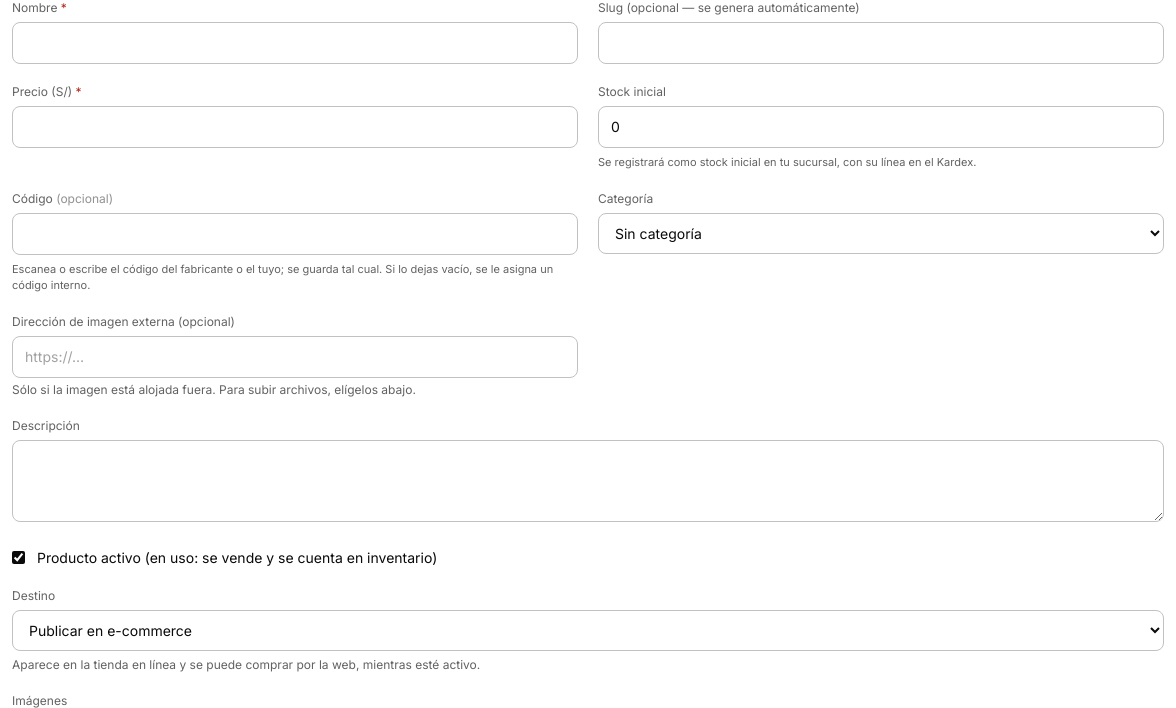
it: alta simple con un código parecido a otro › enseña el aviso del servidor y no se va del formulario sin que se lea
Type "Funda" into the field labelled "Nombre *" at (295, 43), box [12,22,578,64]
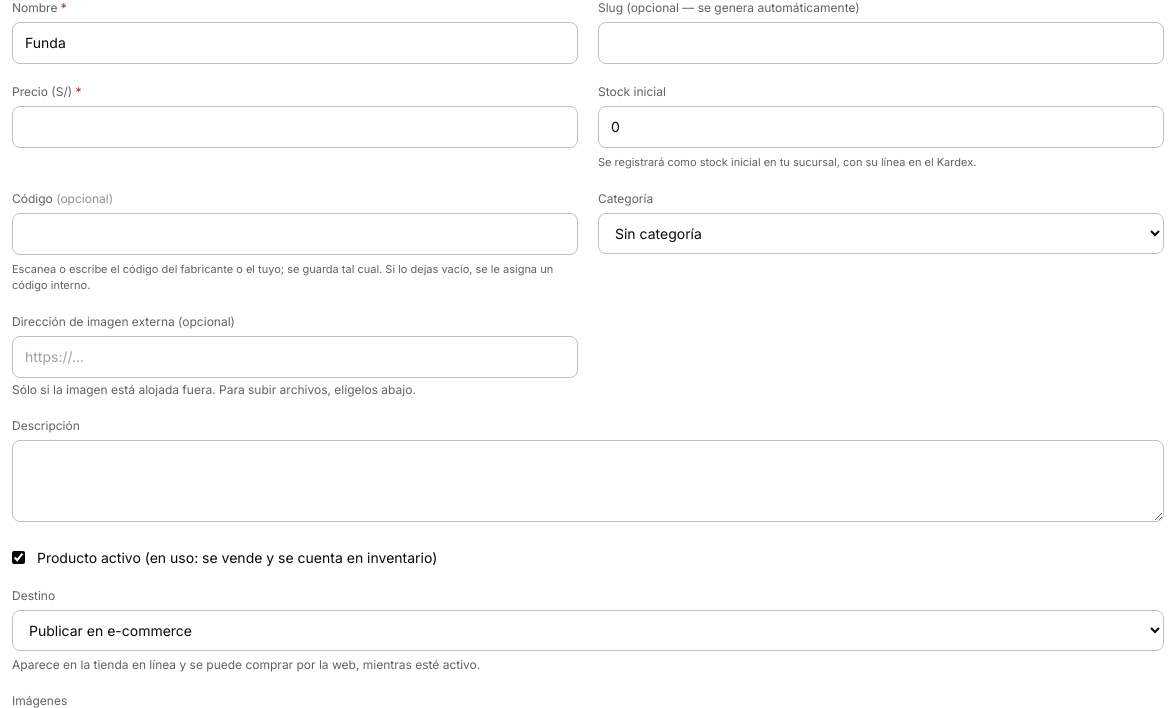
Type "10" into the number field labelled "Precio (S/) *" at (295, 127), box [12,106,578,148]
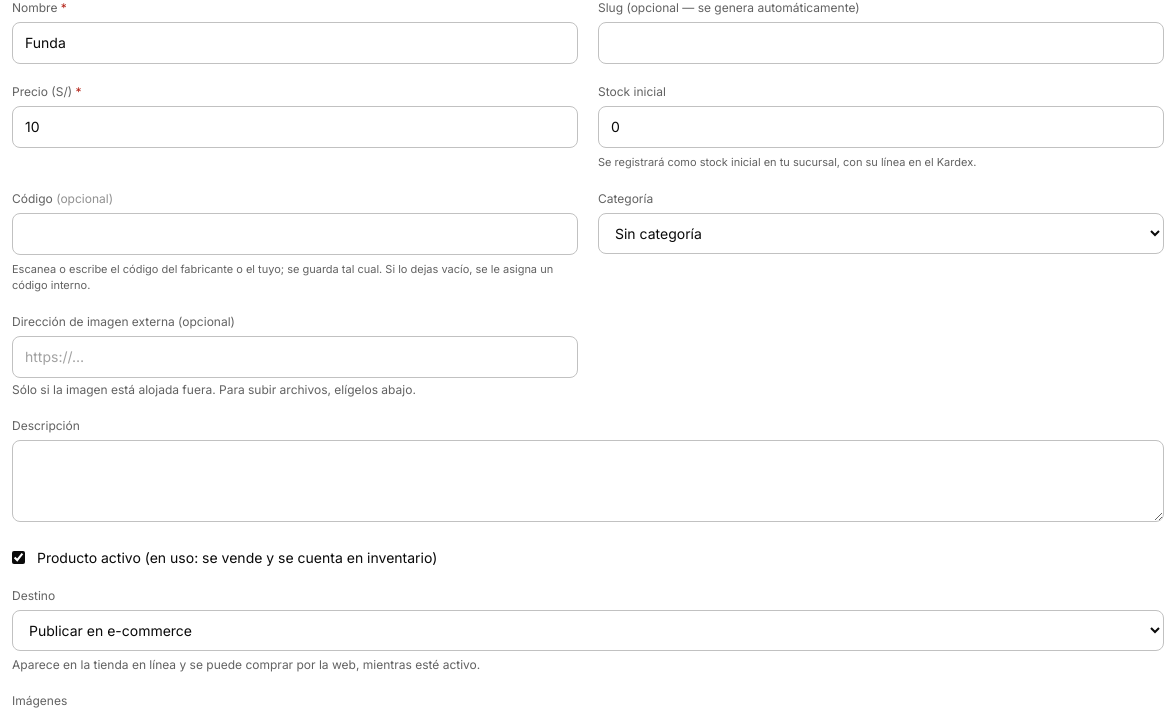
Type "abc123" into the field labelled "Código (opcional)" at (295, 234), box [12,212,578,254]
(page scrolled)
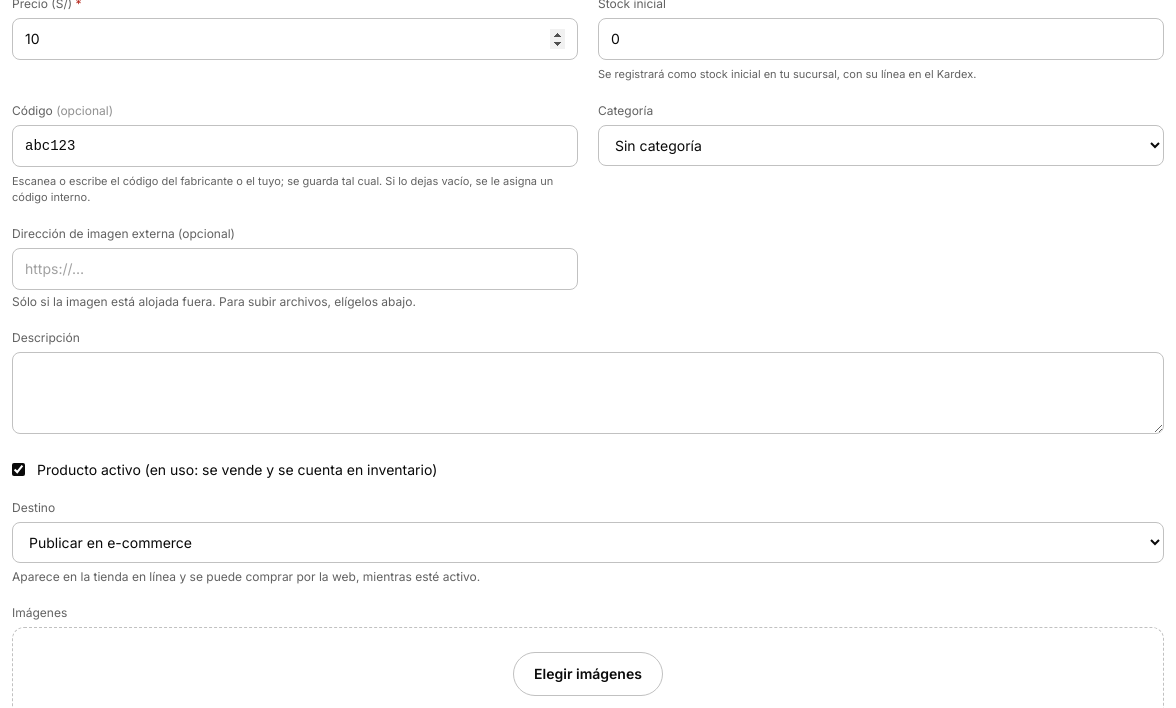
Submit the form labelled "Nombre"
(page scrolled)
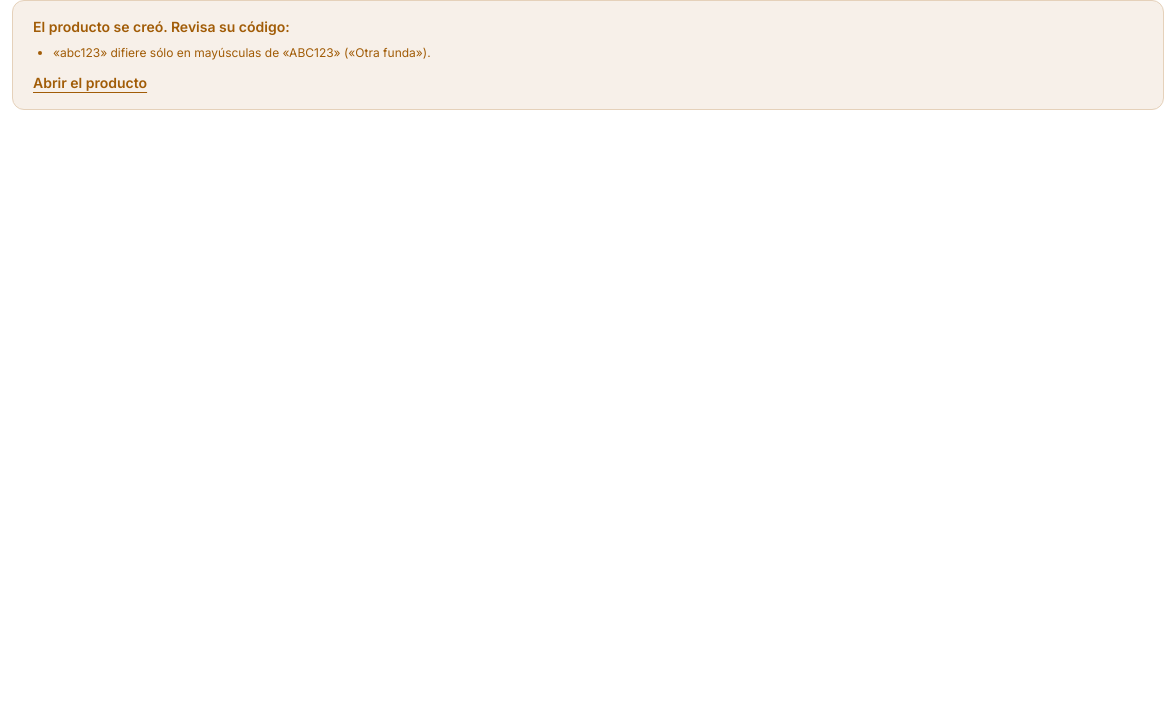
Check: the message shows "difiere sólo en mayúsculas", box [53,45,431,60]
